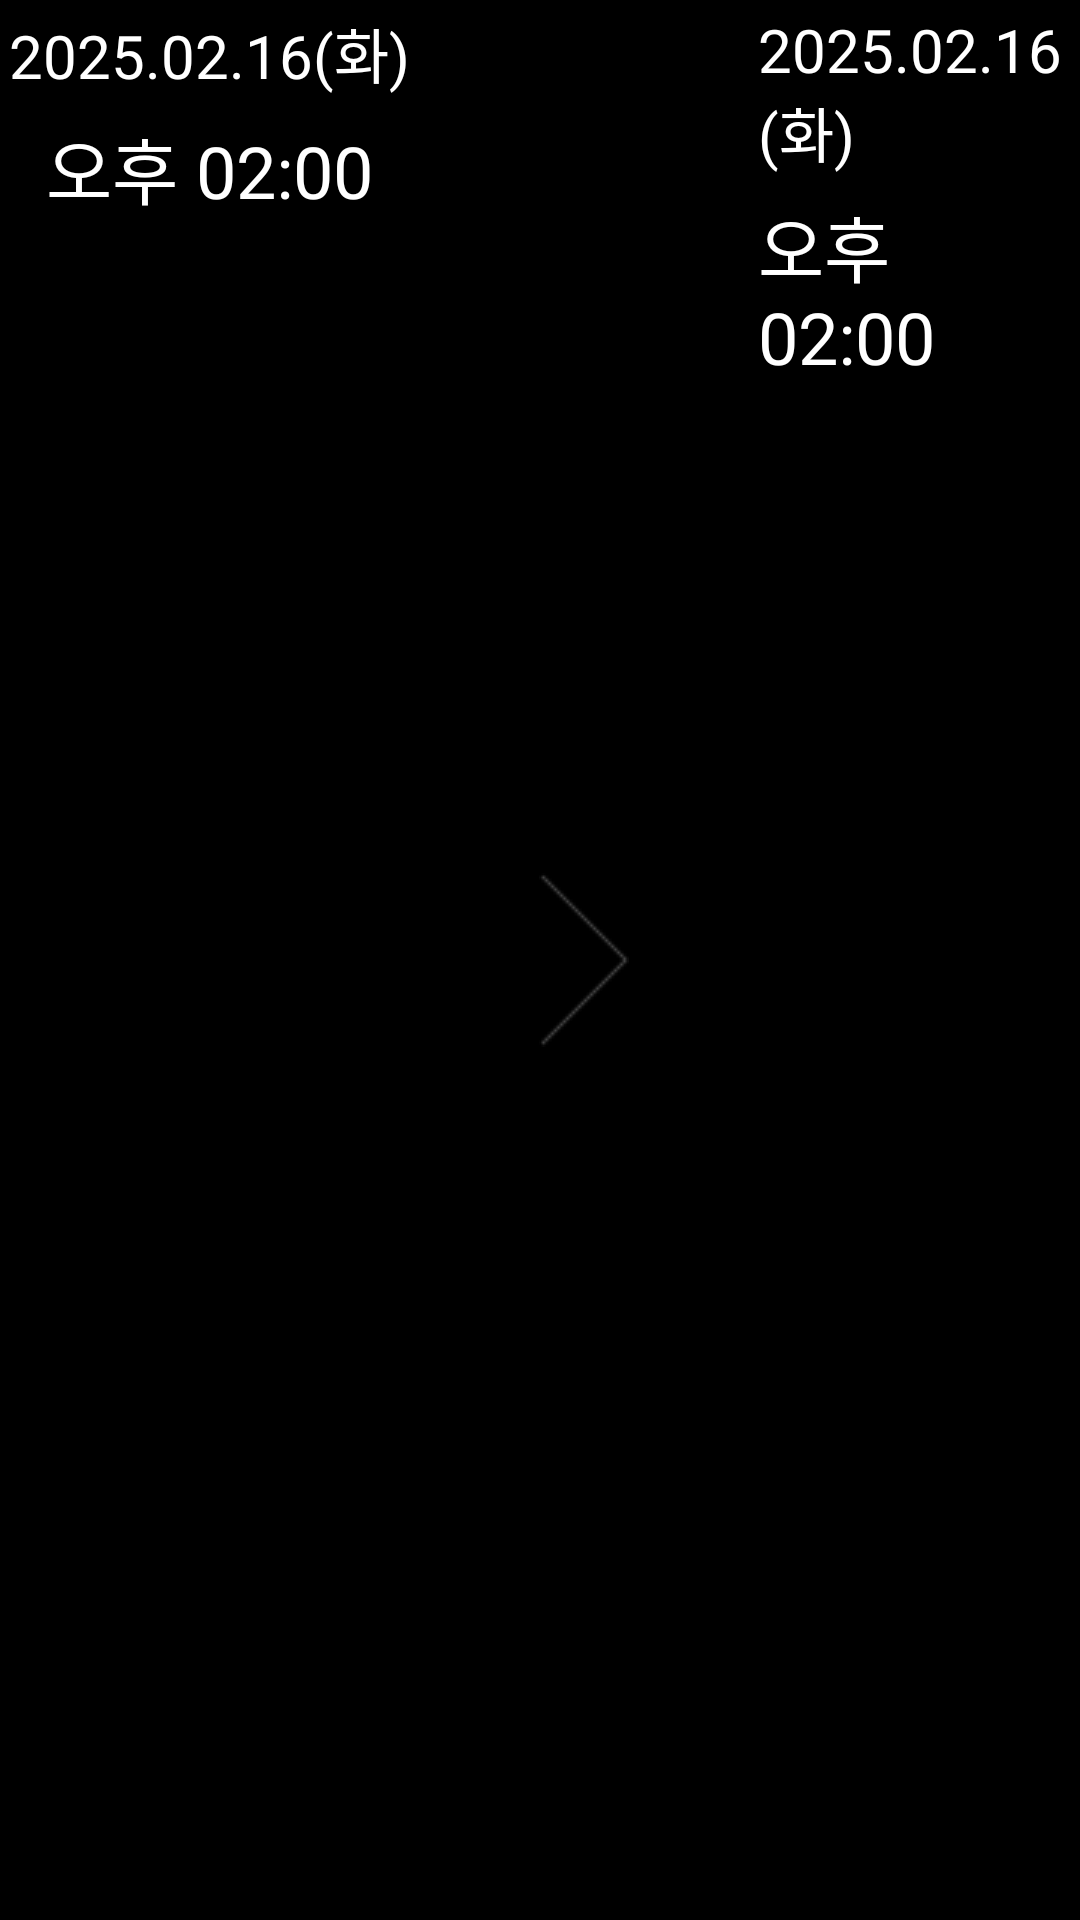

Icon click points for this 1080 × 1920 phone screenshot, format (x=x, y=y):
date arrow: (x=584, y=960)
